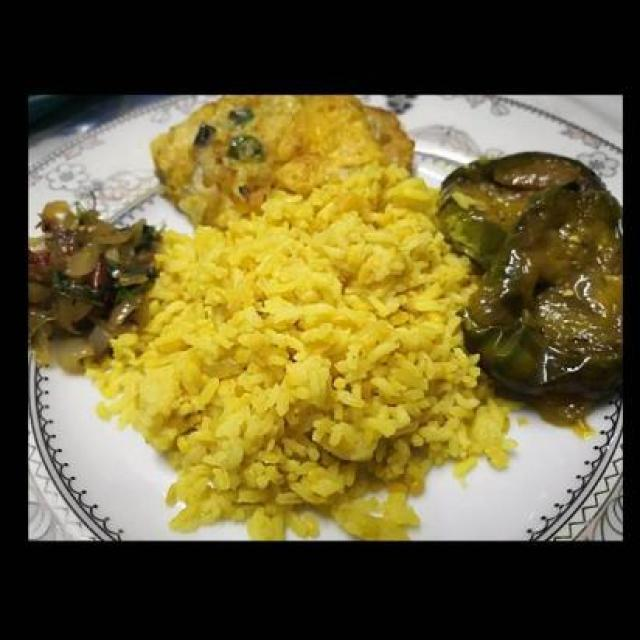khichdi: (153, 217, 479, 528)
omelette: (113, 97, 438, 212)
